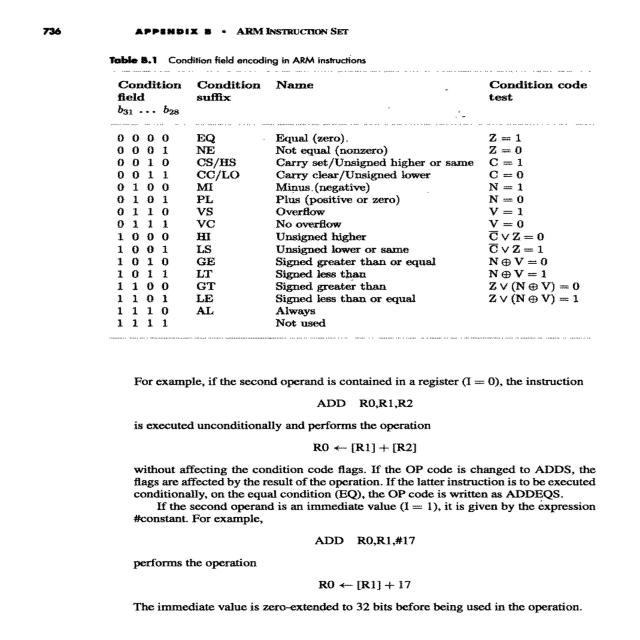diagram: (70, 56, 640, 358)
